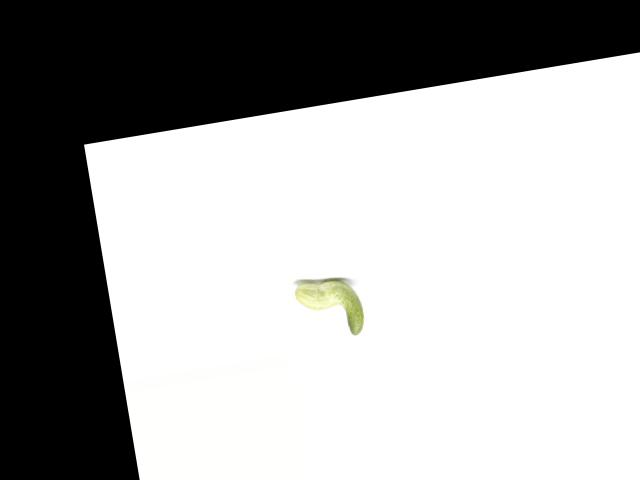cucumber: (293, 273, 367, 343)
